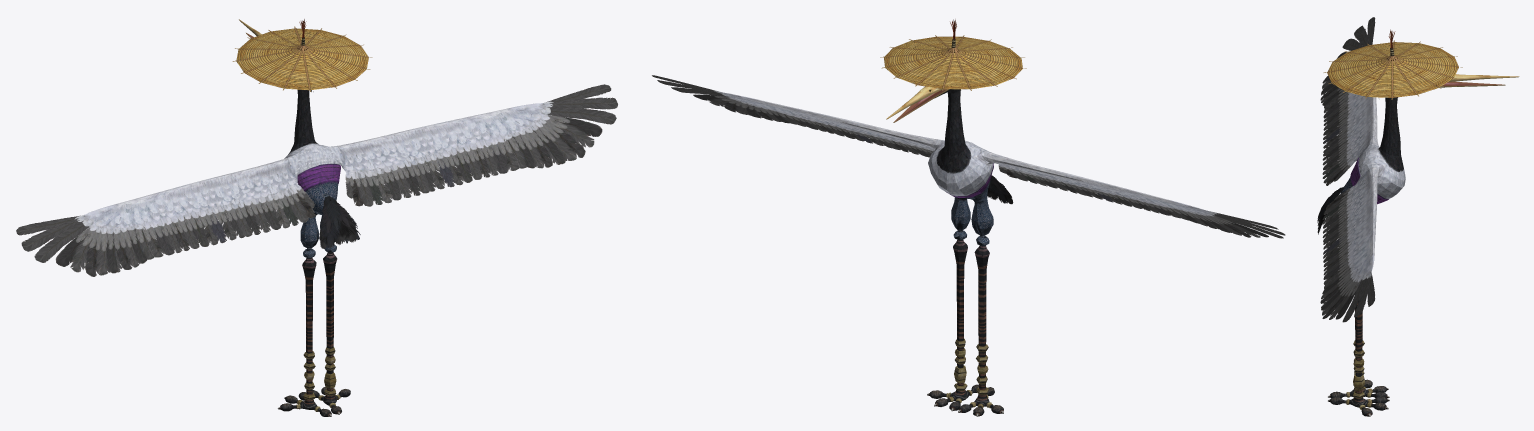
Rendered from Crane.obj.
3 renders of one model, left to right at view 1: azimuth 30°, elevation 25°; view 2: azimuth 150°, elevation 25°; view 3: azimuth 270°, elevation 25°, orthographic. The views are drawn at different scales.
Parts seen in each view (by area): view 1: crane_mesh0009.rip.001, hat_mesh0012.rip.001; view 2: crane_mesh0009.rip.001, hat_mesh0012.rip.001; view 3: crane_mesh0009.rip.001, hat_mesh0012.rip.001.
Boxes of the visible parts, bbox=[...] form: crane_mesh0009.rip.001: bbox=[16, 19, 617, 416]; hat_mesh0012.rip.001: bbox=[232, 19, 372, 91]; crane_mesh0009.rip.001: bbox=[652, 75, 1285, 416]; hat_mesh0012.rip.001: bbox=[880, 19, 1026, 90]; crane_mesh0009.rip.001: bbox=[1317, 17, 1519, 416]; hat_mesh0012.rip.001: bbox=[1323, 29, 1462, 99].
Bounding box in the file's own units: 3.82 × 2.31 × 1.13.
